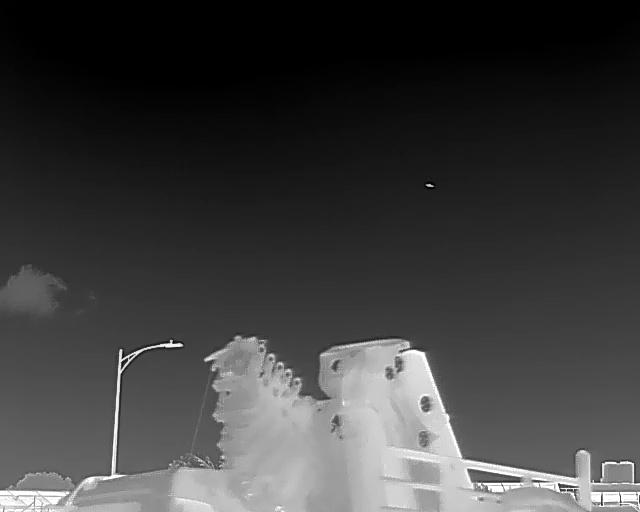fpv-drone: (425, 182, 434, 188)
